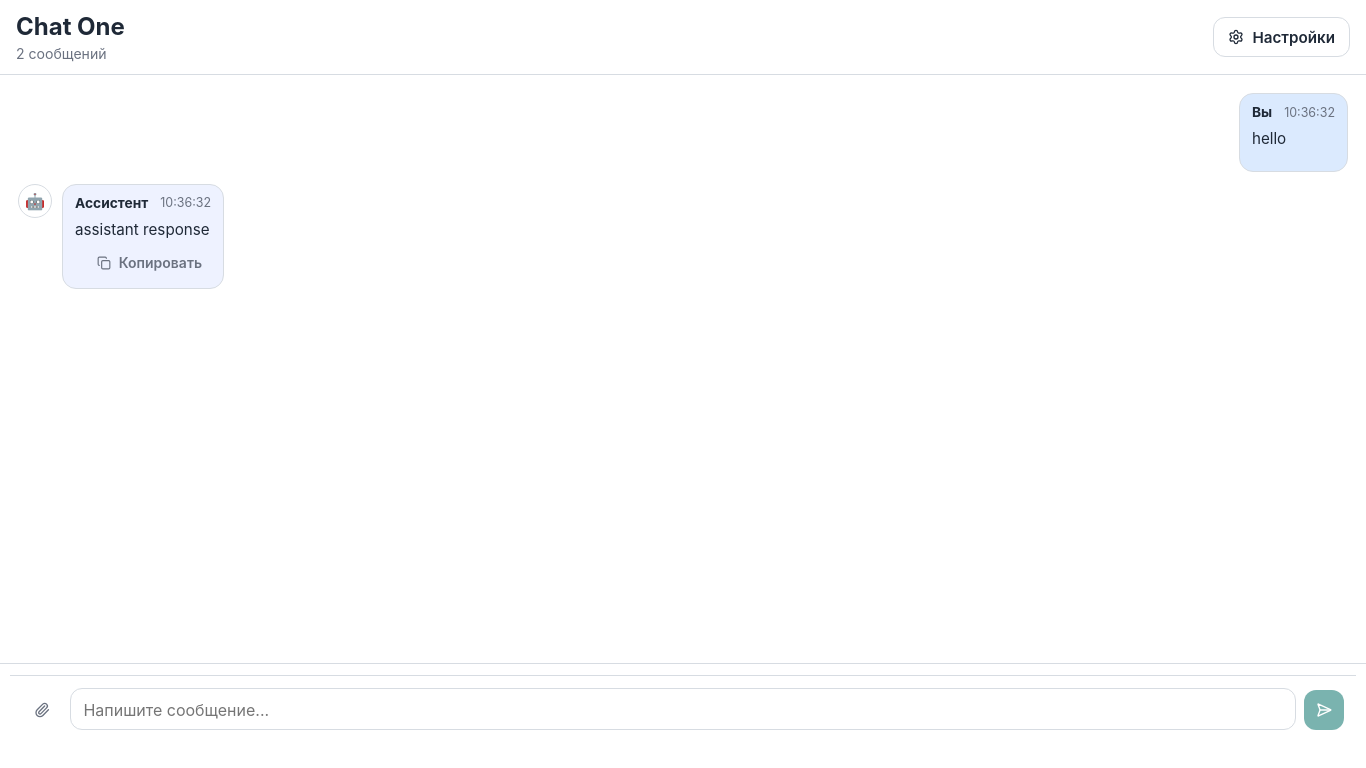
Scenario: ChatWindow › keeps partial content and shows error on mid-stream failure
Type "hello" into the text box with placeholder "Напишите сообщение..." at (683, 709), box 70,688 -> 1296,730
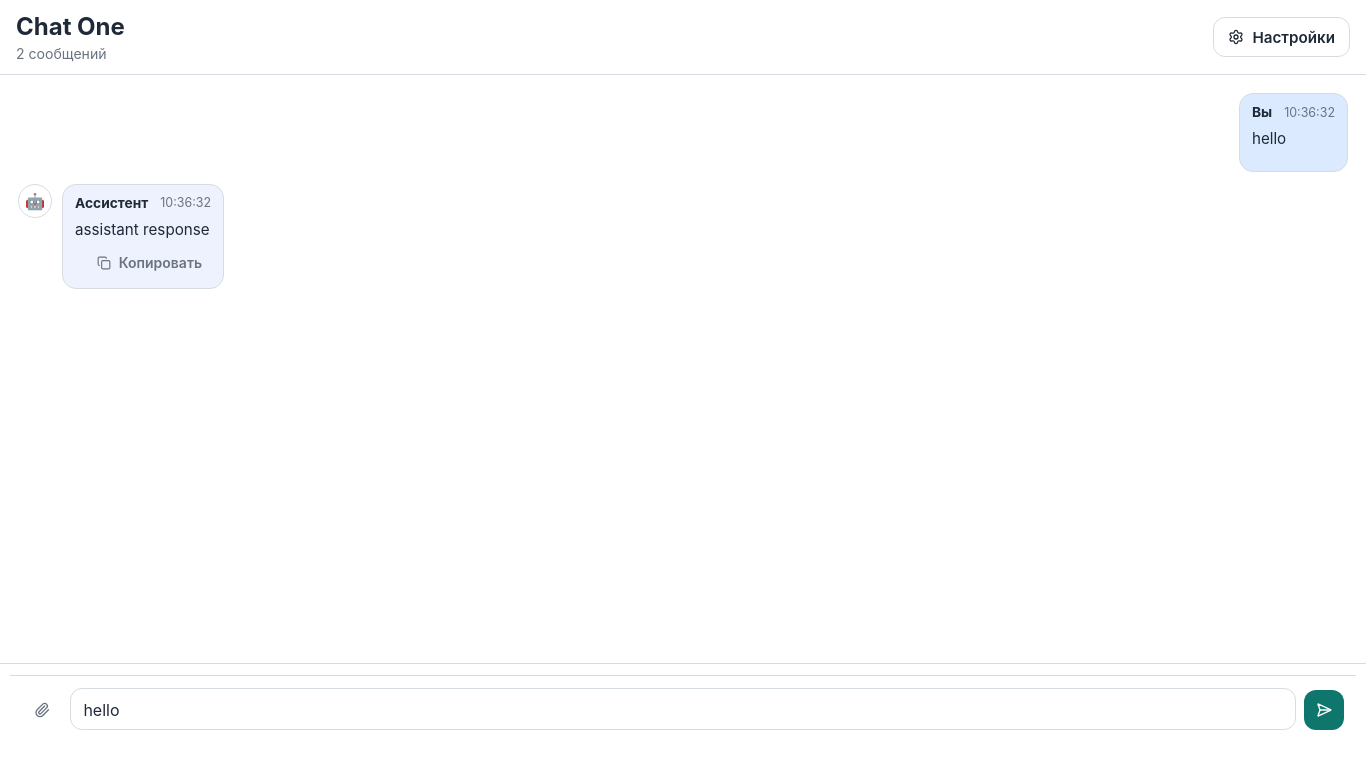
Submit the form with placeholder "Напишите сообщение...", box 10,675 -> 1356,758
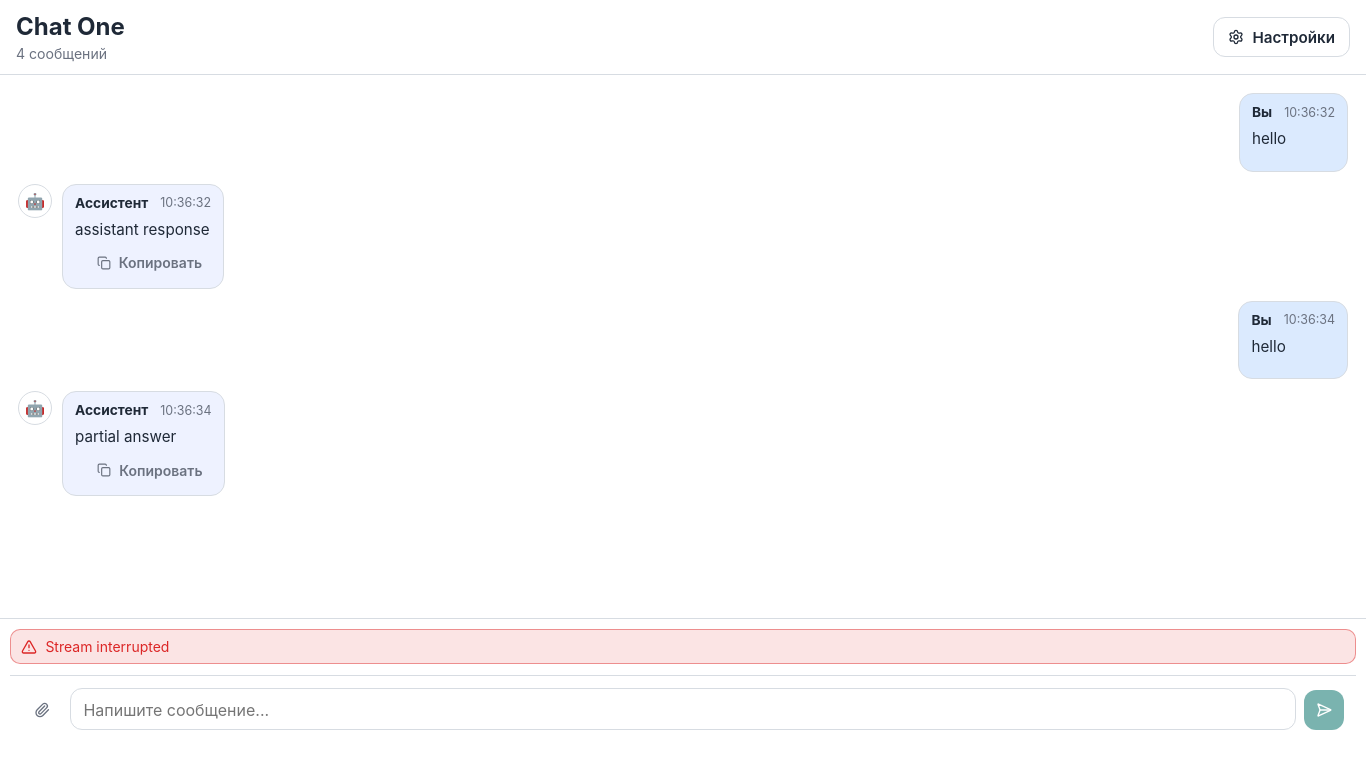
Now the text "partial answer" is shown, box 75,427 -> 176,446
Now the message reads "Stream interrupted", box 45,638 -> 169,655
